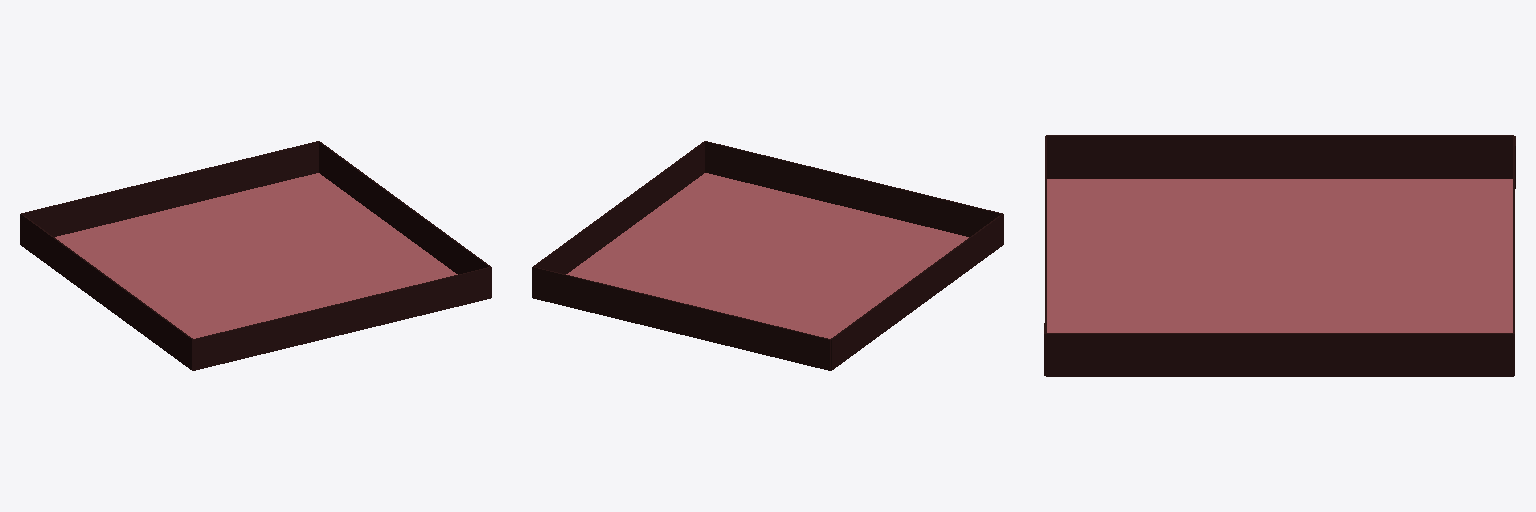
The robot description file, URDF, robot "arena":
<robot name="arena">

  <material name="plane_color" >
    <color rgba="0.6980392156862745 0.402156862745098 0.4196078431372549 1.0" />
  </material>
  <material name="boundary_color" >
    <color rgba="0.20392156862745098 0.10980392156862745 0.10784313725490196 1.0" />
  </material>
  <material name="text_color" >
    <color rgba="1.0 0.7501960784313725 0.48627450980392156 1.0" />
  </material>

  <link name="plane">
    <contact>
        <lateral_friction value="1"/>
    </contact>
    <inertial>
      <origin rpy="0 0 0" xyz="0 0 0"/>
      <mass value=".0"/>
      <inertia ixx="0" ixy="0" ixz="0" iyy="0" iyz="0" izz="0"/>
    </inertial>
    <visual>
      <origin rpy="0 0 0" xyz="0 0 0"/>
      <geometry>
        <box size="20 20 0.01"/>
      </geometry>
      <material name="plane_color"/>
    </visual>
    <collision>
      <origin rpy="0 0 0" xyz="0 0 0"/>
      <geometry>
        <box size="20 20 0.01"/>
      </geometry>
    </collision>
  </link>

  <link name="boundary">
    <inertial>
      <origin xyz="0 0 0" rpy="0 0 0"/>
      <mass value=".0"/>
      <inertia ixx="0" ixy="0" ixz="0" iyy="0" iyz="0" izz="0"/>
    </inertial>
    <visual name="visual_wall_1">
      <origin xyz="0 10 1" rpy="0 0 1.57"/>
      <geometry>
        <box size="0.1 20 2"/>
      </geometry>
      <material name="boundary_color"/>
    </visual>
    <visual name="visual_wall_2">
      <origin xyz="0 -10 1" rpy="0 0 1.57"/>
      <geometry>
        <box size="0.1 20 2"/>
      </geometry>
      <material name="boundary_color"/>
    </visual>
    <visual name="visual_wall_3">
      <origin xyz="10 0 1" rpy="0 0 0"/>
      <geometry>
        <box size="0.1 20 2"/>
      </geometry>
      <material name="boundary_color"/>
    </visual>
    <visual name="visual_wall_4">
      <origin xyz="-10 0 1" rpy="0 0 0"/>
      <geometry>
        <box size="0.1 20 2"/>
      </geometry>
      <material name="boundary_color"/>
    </visual>
    <collision name="collision_wall_1">
      <origin xyz="0 10 1" rpy="0 0 1.57"/>
      <geometry>
        <box size="0.1 20 2"/>
      </geometry>
    </collision>
    <collision name="collision_wall_2">
      <origin xyz="0 -10 1" rpy="0 0 1.57"/>
      <geometry>
        <box size="0.1 20 2"/>
      </geometry>
    </collision>
    <collision name="collision_wall_3">
      <origin xyz="10 0 1" rpy="0 0 0"/>
      <geometry>
        <box size="0.1 20 2"/>
      </geometry>
    </collision>
    <collision name="collision_wall_4">
      <origin xyz="-10 0 1" rpy="0 0 0"/>
      <geometry>
        <box size="0.1 20 2"/>
      </geometry>
    </collision>
  </link>

  <link name="text">
    <inertial>
      <origin xyz="-3 0.3 0" rpy="0 0 -1.57"/>
      <mass value=".0"/>
      <inertia ixx="0" ixy="0" ixz="0" iyy="0" iyz="0" izz="0"/>
    </inertial>
    <visual>
      <origin xyz="-3 0.3 0" rpy="0 0 -1.57"/>
      <geometry>
        <mesh filename="text.dae" scale="0.13 0.13 0.0008"/>
      </geometry>
      <material name="text_color"/>
    </visual>
    <collision>
      <origin xyz="-3 0.3 0" rpy="0 0 -1.57"/>
      <geometry>
        <mesh filename="text.dae" scale="0.13 0.13 0.0008"/>
      </geometry>
    </collision>
  </link>

  <joint name="plane_boundary" type="fixed">
    <origin xyz="0 0 0" rpy="0 0 0"/>
    <parent link="plane"/>
    <child link="boundary"/>
  </joint>

  <joint name="plane_text" type="fixed">
    <origin xyz="0 0 0" rpy="0 0 0"/>
    <parent link="plane"/>
    <child link="text"/>
  </joint>

</robot>

--- What the picture shows (computed from the rendered views, not written in the file) ---
Views: 3 orthographic renders of the robot side by side, from view 1: azimuth 30°, elevation 25°; view 2: azimuth 150°, elevation 25°; view 3: azimuth 270°, elevation 25°.
Model arena with 3 links and 2 joints (2 fixed), rooted at plane, posed all joints at 0.
Links seen in each view (by area): view 1: plane, boundary; view 2: plane, boundary; view 3: plane, boundary.
Boxes of the visible links, x1,y1,x2,y2 form: plane: (55, 173, 457, 338); boundary: (20, 141, 491, 370); plane: (566, 173, 968, 338); boundary: (532, 141, 1003, 370); plane: (1047, 179, 1512, 332); boundary: (1044, 135, 1515, 376).
Size in the robot's own frame: 20.1 by 20.12 by 2 metres.
0 mesh visuals loaded from 1 distinct referenced files (none loaded); not drawn: 1 (reference not matched to a file when rendering).